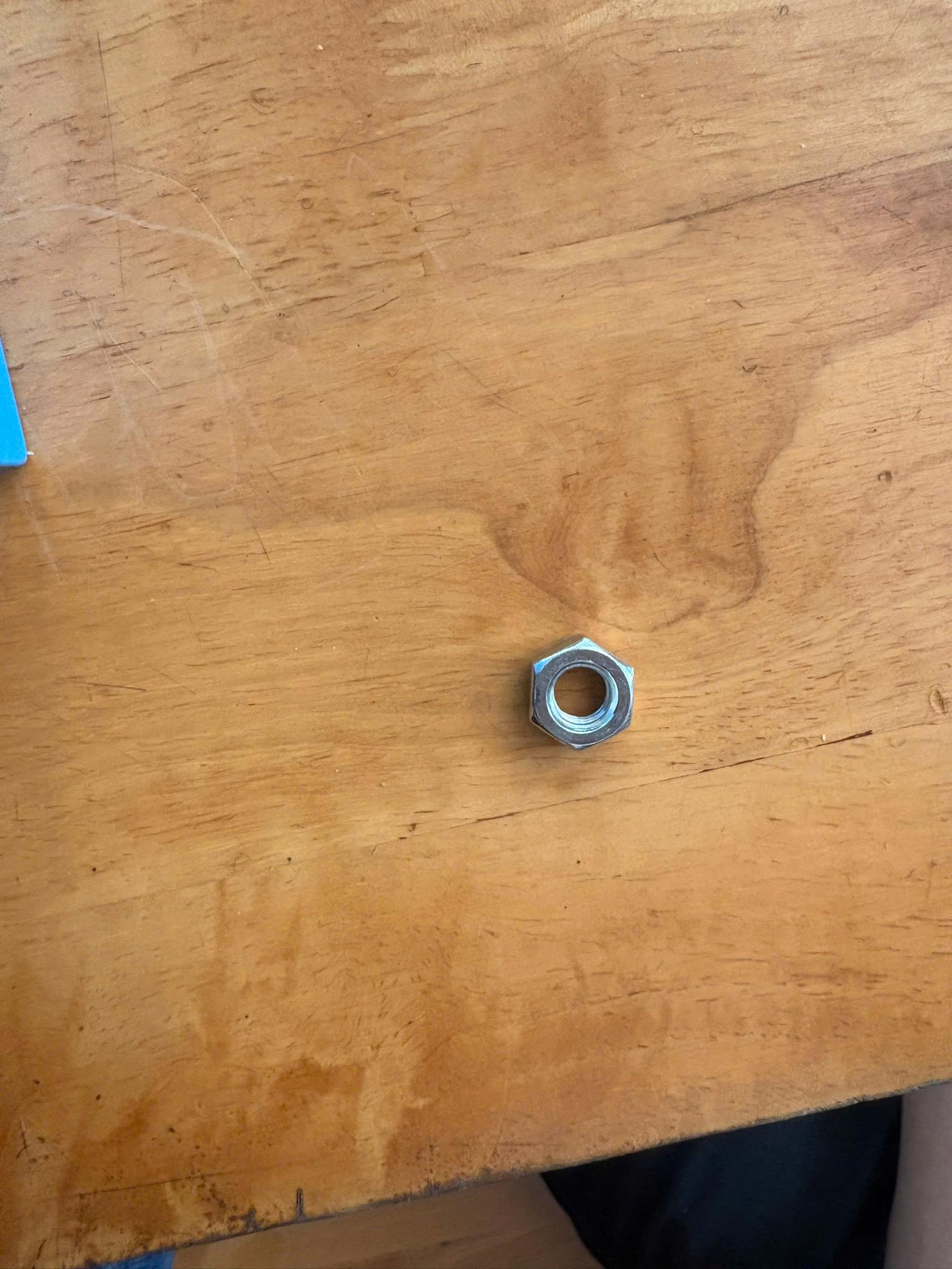nut: (521, 625, 645, 766)
